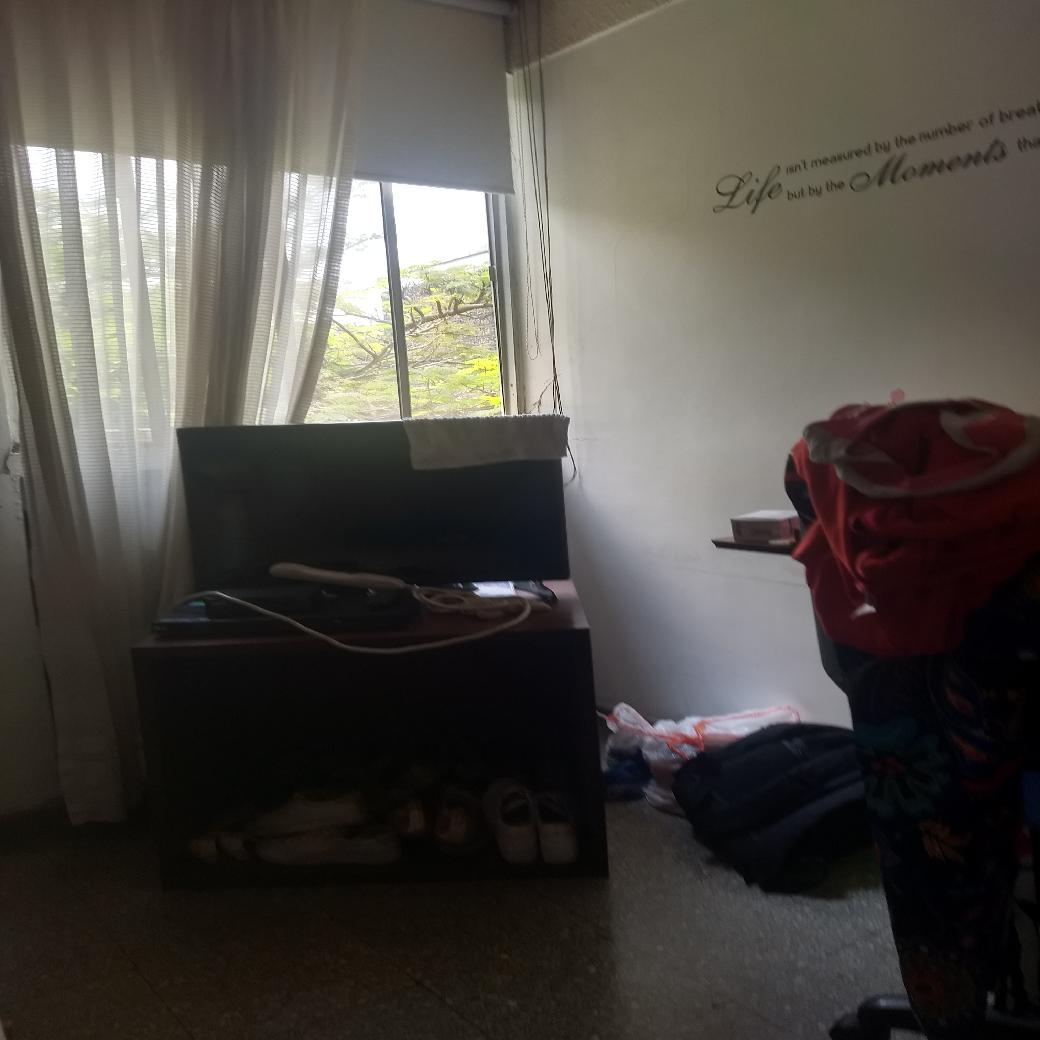tv: (170, 419, 575, 577)
